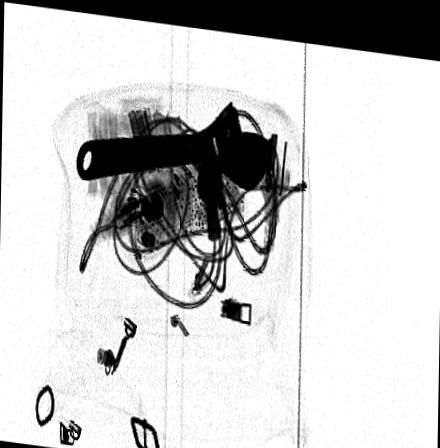Wrench: (73, 91, 280, 189)
